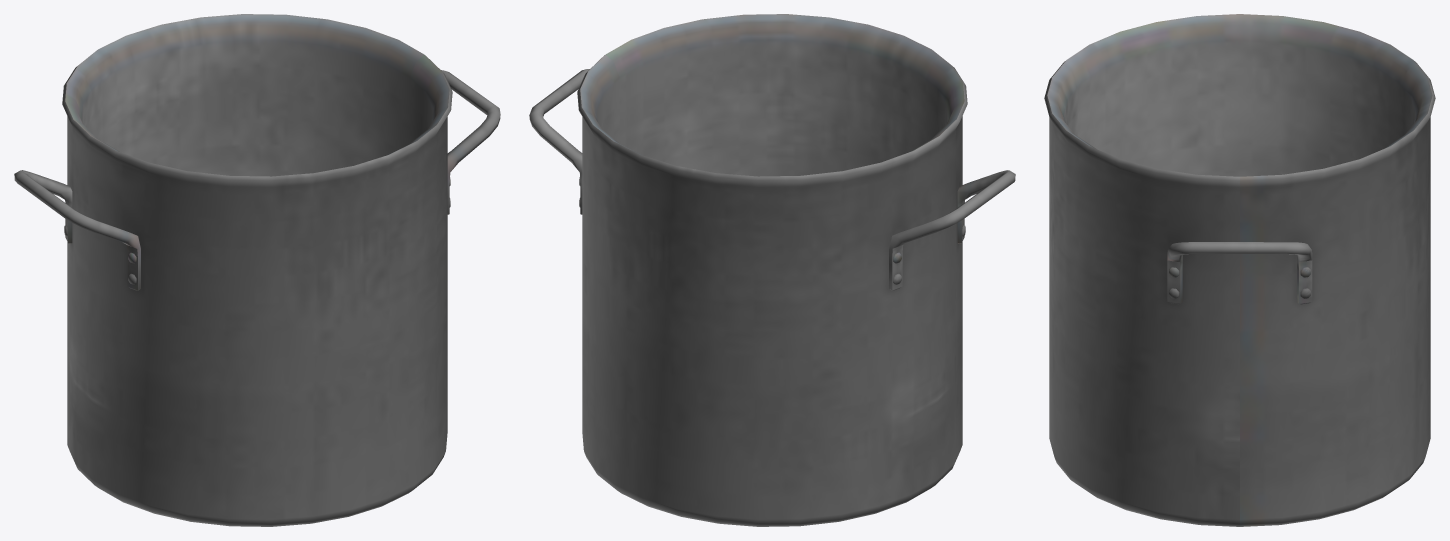
Rendered from pot.glb.
3 renders of one model, left to right at view 1: azimuth 30°, elevation 25°; view 2: azimuth 150°, elevation 25°; view 3: azimuth 270°, elevation 25°, orthographic.
Parts seen in each view (by area): view 1: Pot_A; view 2: Pot_A; view 3: Pot_A.
Part boxes in pixels (left/top/right/bottom): Pot_A: left=14, top=14, right=500, bottom=526; Pot_A: left=529, top=14, right=1015, bottom=526; Pot_A: left=1044, top=14, right=1435, bottom=526.
Size of the model in its own units: 0.3155 by 0.2475 by 0.247.
1 material, 1 textured.
